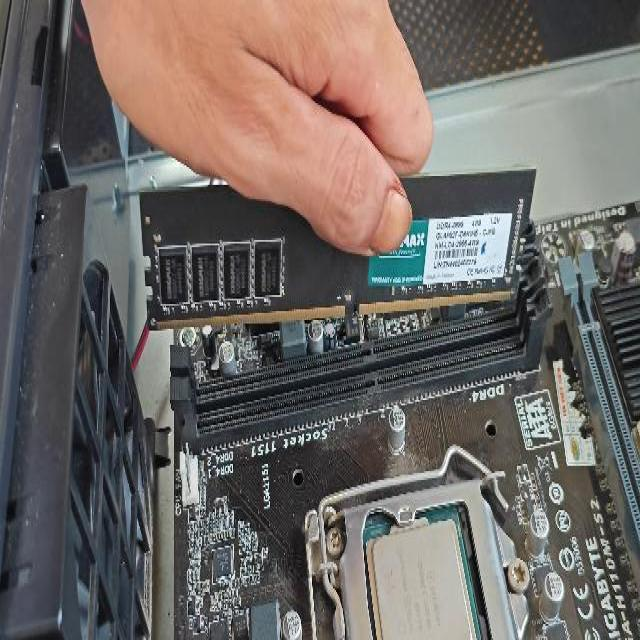CPU: (361, 514, 484, 640)
Mainboard: (172, 194, 640, 640)
RAM: (139, 165, 538, 332)
